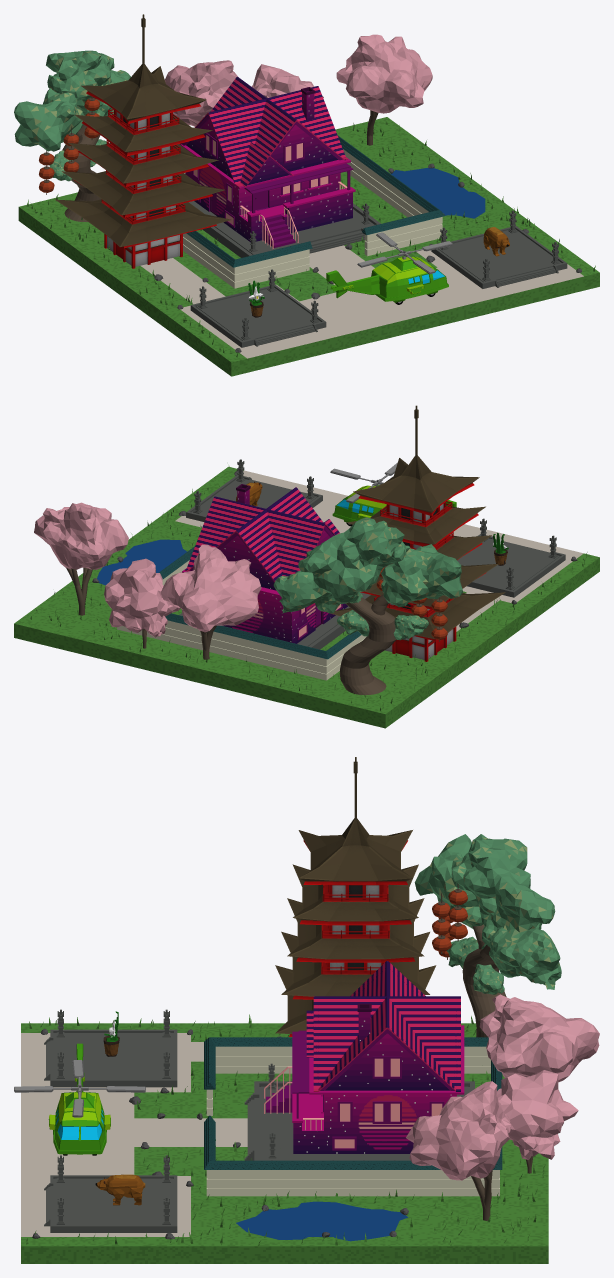
The picture shows the model from 3 angles, top to bottom: view 1: azimuth 30°, elevation 25°; view 2: azimuth 150°, elevation 25°; view 3: azimuth 270°, elevation 25°; orthographic projection. The views are drawn at different scales.
Visible parts, largest first — view 1: Cube.005, Cube.156, VEHICLES_HELICOPTER, ANIMAL_OSO; view 2: Cube.005, Cube.156, VEHICLES_HELICOPTER; view 3: Cube.005, Cube.156, VEHICLES_HELICOPTER, ANIMAL_OSO.
Boxes of the visible parts, <box> form: Cube.005: <box>14,14,599,376</box>; Cube.156: <box>179,76,355,248</box>; VEHICLES_HELICOPTER: <box>326,232,452,304</box>; ANIMAL_OSO: <box>483,227,509,256</box>; Cube.005: <box>14,405,599,728</box>; Cube.156: <box>182,484,347,643</box>; VEHICLES_HELICOPTER: <box>330,463,456,526</box>; Cube.005: <box>21,757,599,1263</box>; Cube.156: <box>264,961,464,1153</box>; VEHICLES_HELICOPTER: <box>14,1043,145,1155</box>; ANIMAL_OSO: <box>95,1174,145,1205</box>.
Size of the model in its own units: 4528 by 2668 by 4442.
Materials: 43 (7 with a texture image).
